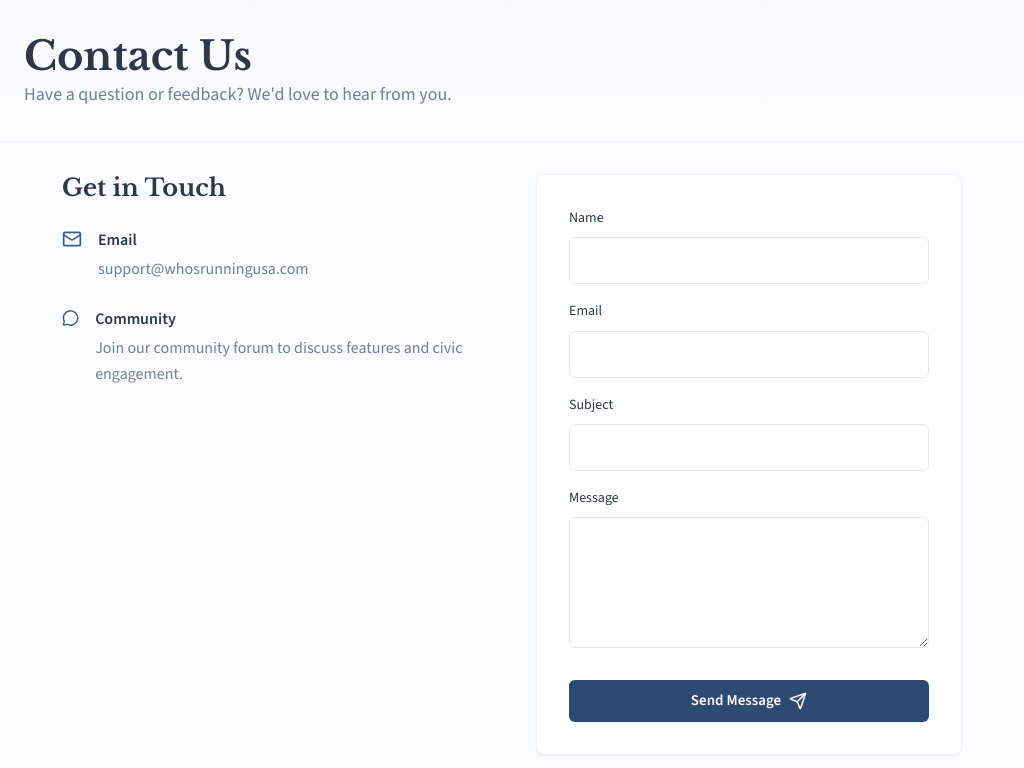
Scenario: ContactPage › shows error on failed submission
This screenshot has width=1024, height=768.
Type "John" into the field labelled "Name".
click(749, 261); type("John")  # box [569,237,929,284]
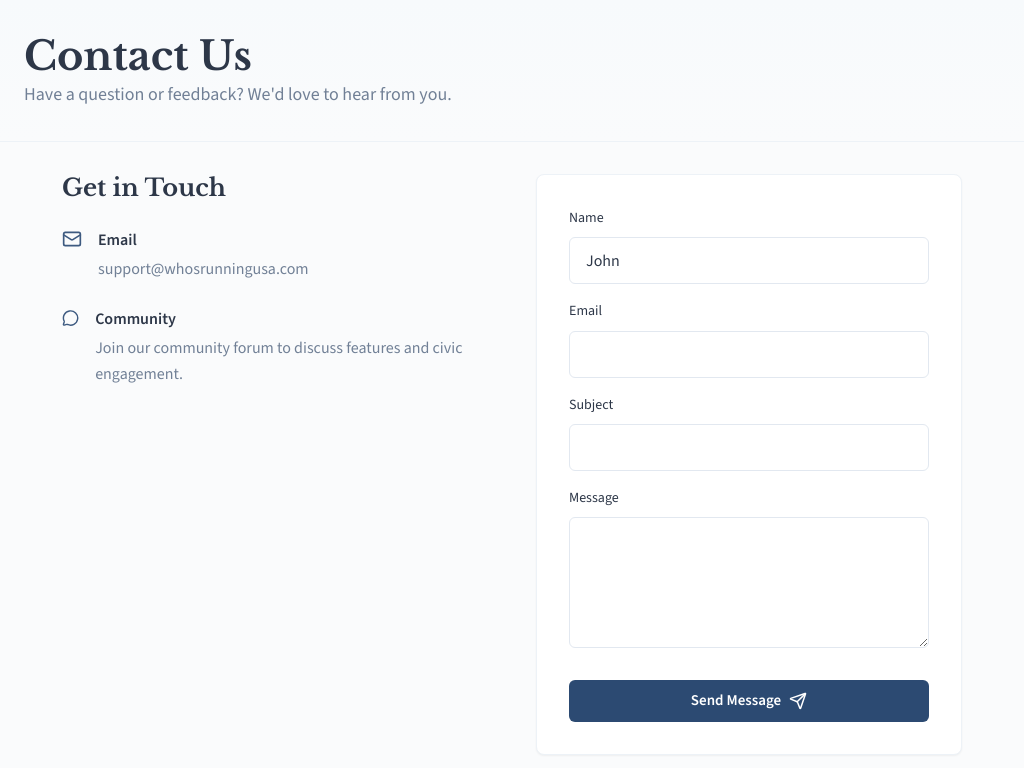
Type "john@test.com" into the field labelled "Email".
click(749, 354); type("john@test.com")  # box [569,331,929,378]
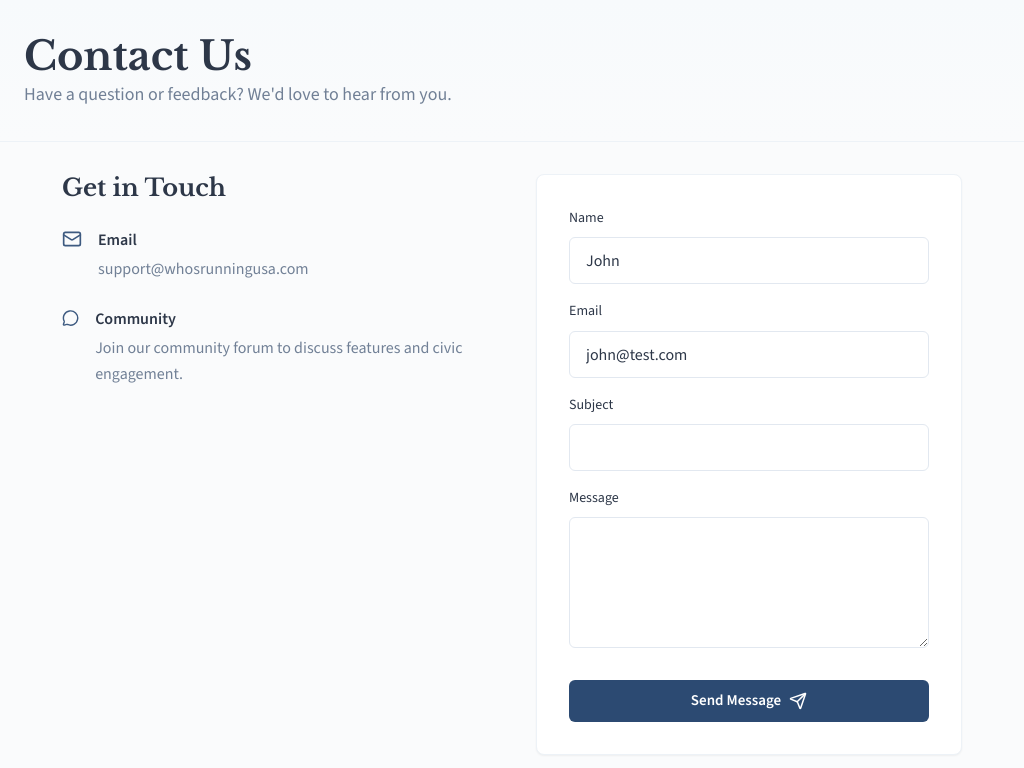
Type "Test" into the field labelled "Subject".
click(749, 448); type("Test")  # box [569,424,929,471]
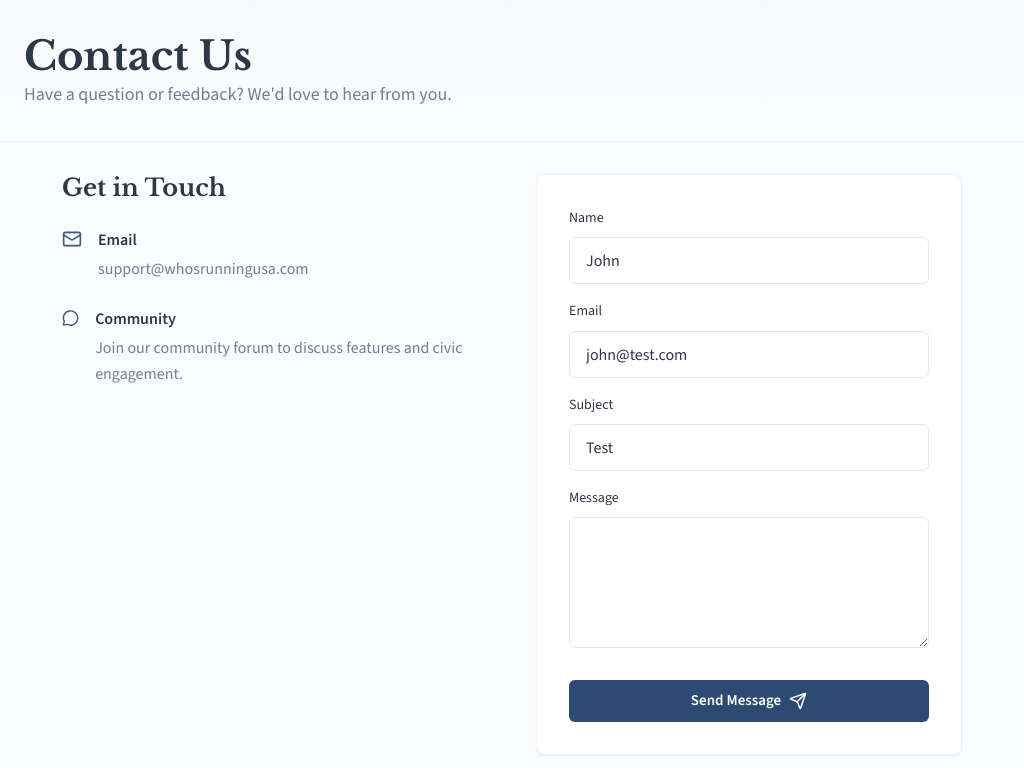
Type "Hi" into the text box.
click(749, 583); type("Hi")  # box [569,517,929,648]
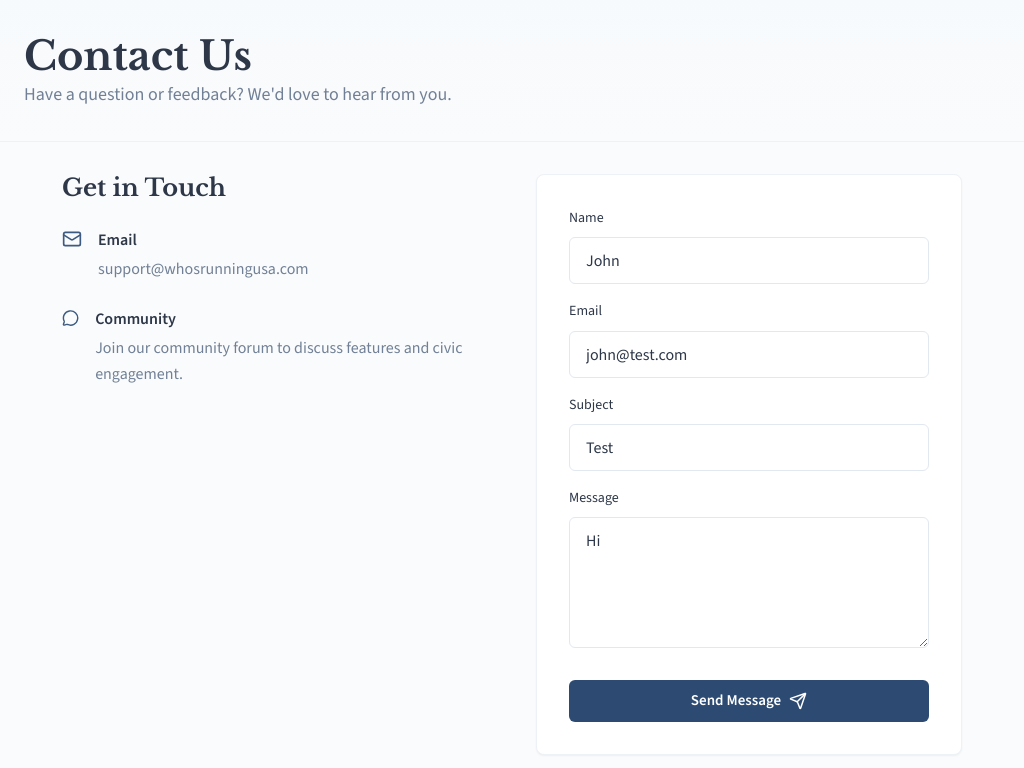
Click the button "Send Message".
click(749, 701)  # box [569,680,929,722]
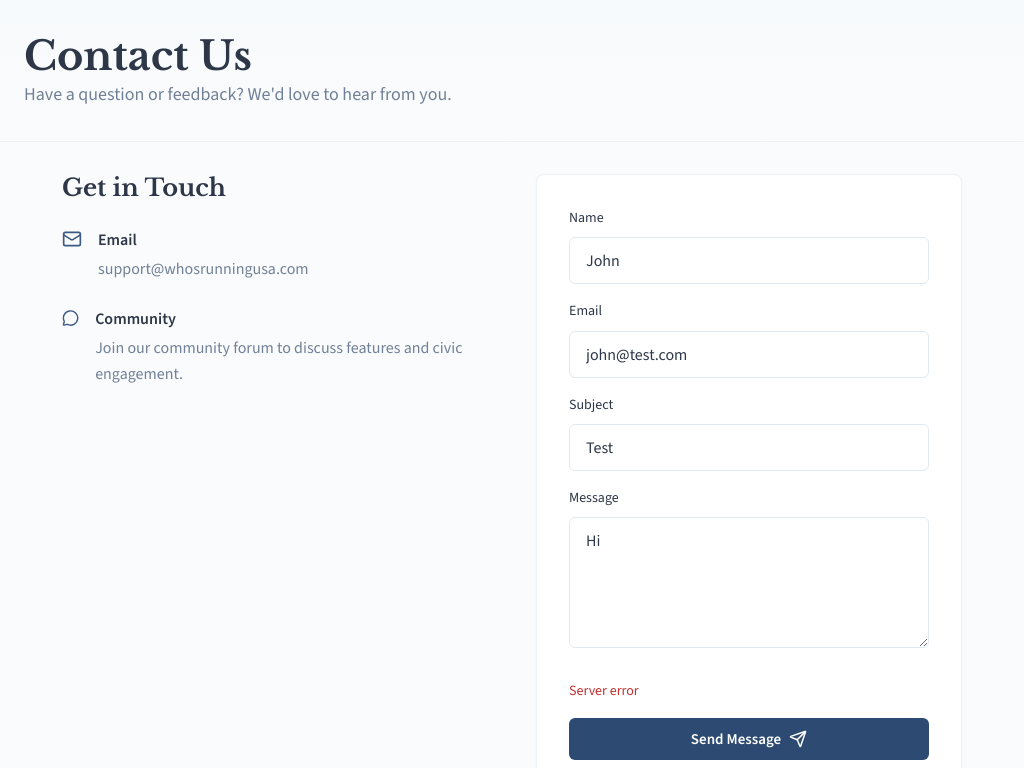
Check: the text "Server error" is shown, box [569,681,639,700]
